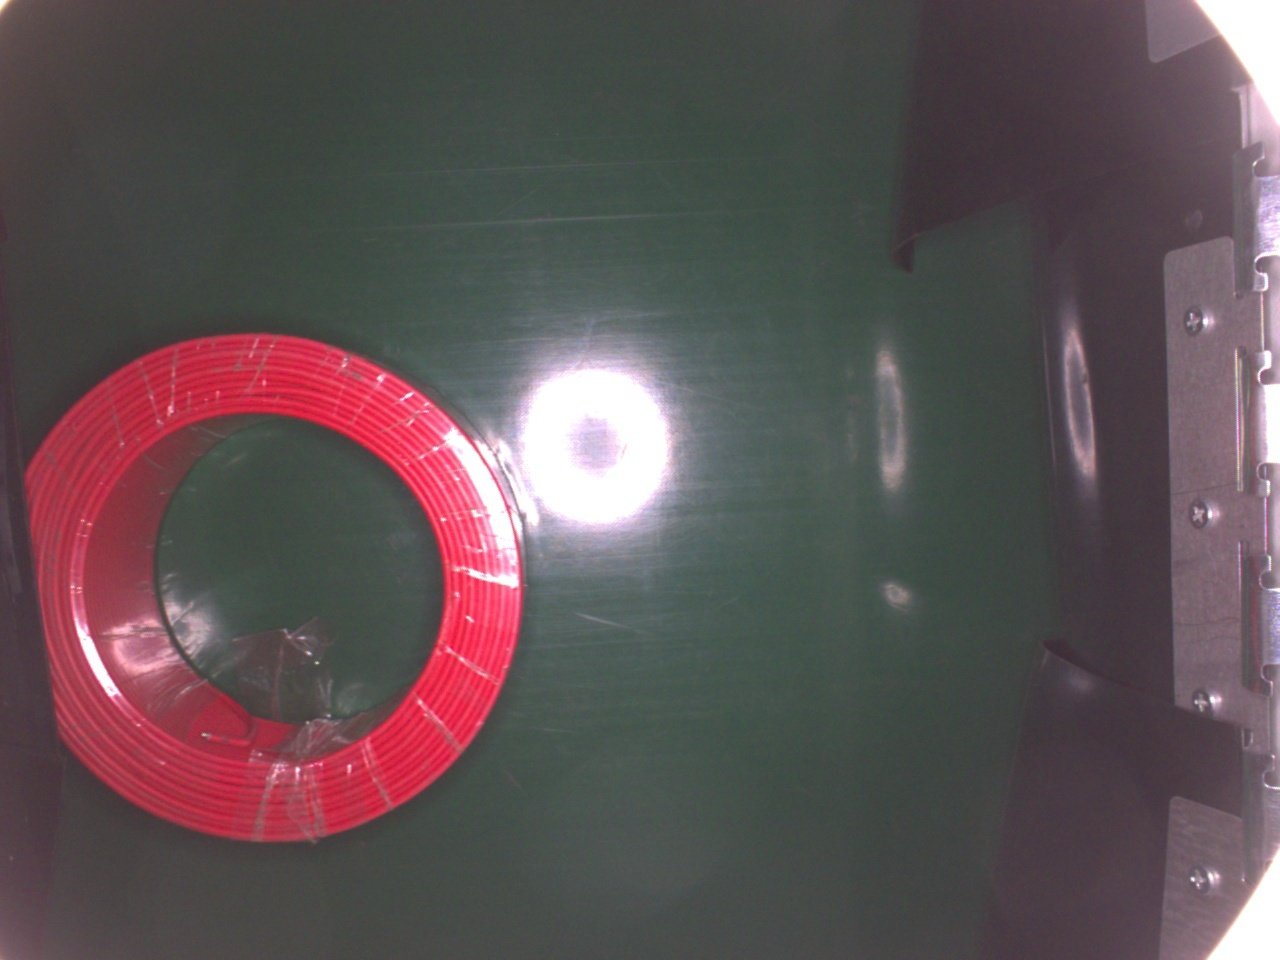red: (20, 328, 536, 850)
